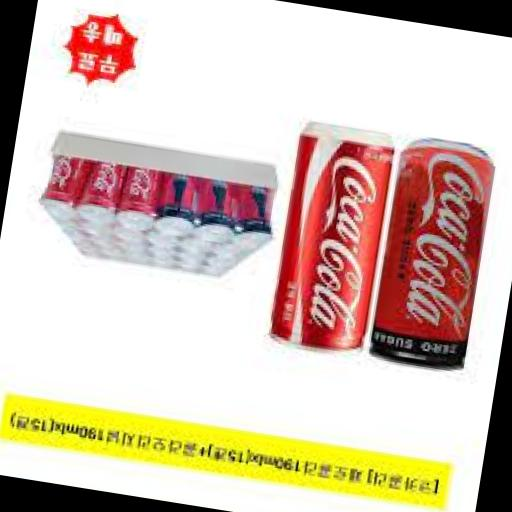Coca: (264, 116, 402, 362), (40, 126, 90, 222), (80, 136, 130, 229), (116, 142, 166, 232)
